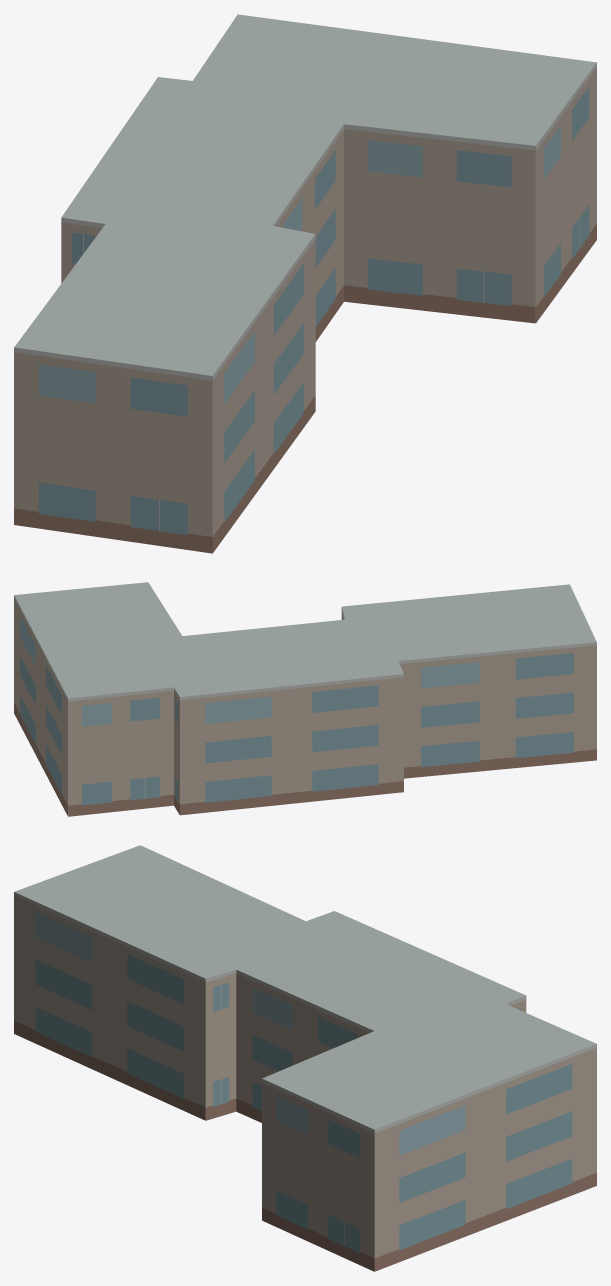
The model's file is survey-upis-32678604.glb.
The picture shows the model from 3 angles, top to bottom: view 1: azimuth 30°, elevation 25°; view 2: azimuth 150°, elevation 25°; view 3: azimuth 270°, elevation 25°; orthographic projection. The views are drawn at different scales.
Visible parts, largest first — view 1: survey-upis-32678604.tmp; view 2: survey-upis-32678604.tmp; view 3: survey-upis-32678604.tmp.
Part boxes in pixels (x1,y1,x2,y2): survey-upis-32678604.tmp: (14,14,596,553); survey-upis-32678604.tmp: (14,582,596,816); survey-upis-32678604.tmp: (14,845,596,1271).
Bounding box in the file's own units: 39.34 × 9.15 × 34.04.
